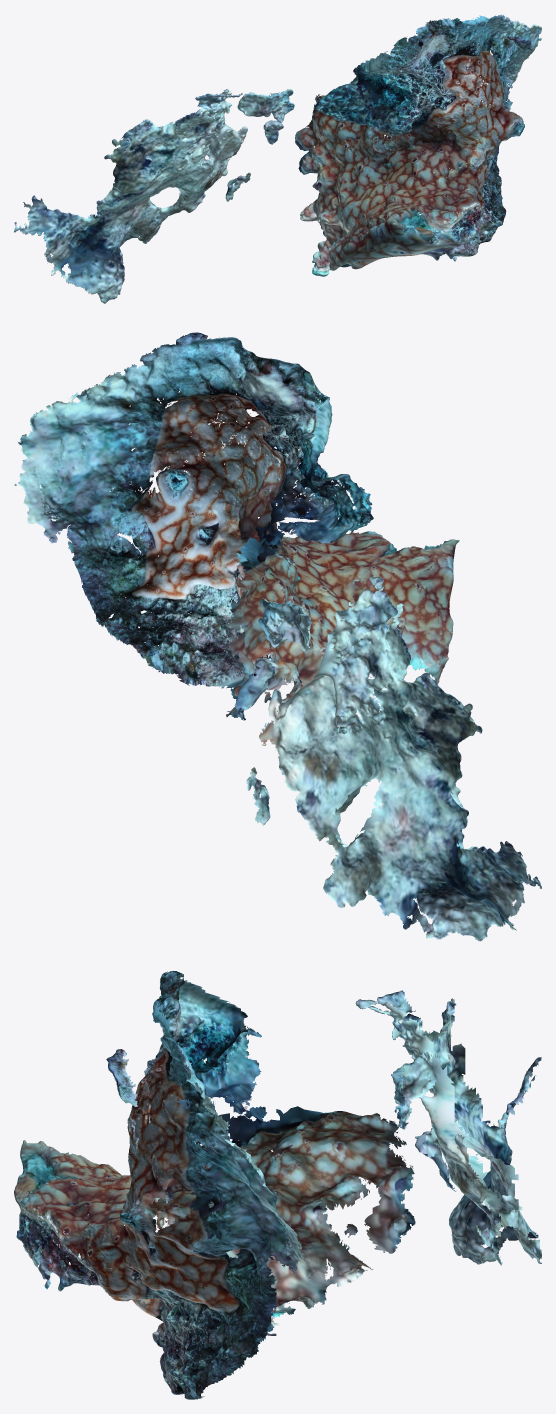
3 views of the same model, one above another, from view 1: azimuth 30°, elevation 25°; view 2: azimuth 150°, elevation 25°; view 3: azimuth 270°, elevation 25° (orthographic). The views are drawn at different scales.
Parts seen in each view (by area): view 1: Reef; view 2: Reef; view 3: Reef.
Boxes of the visible parts, x1=… form: Reef: x1=14, y1=14, x2=541, y2=303; Reef: x1=14, y1=332, x2=541, y2=941; Reef: x1=14, y1=971, x2=541, y2=1399.
Bounding box in the file's own units: 46.67 × 28.89 × 30.23.
38 materials, 38 textured.
